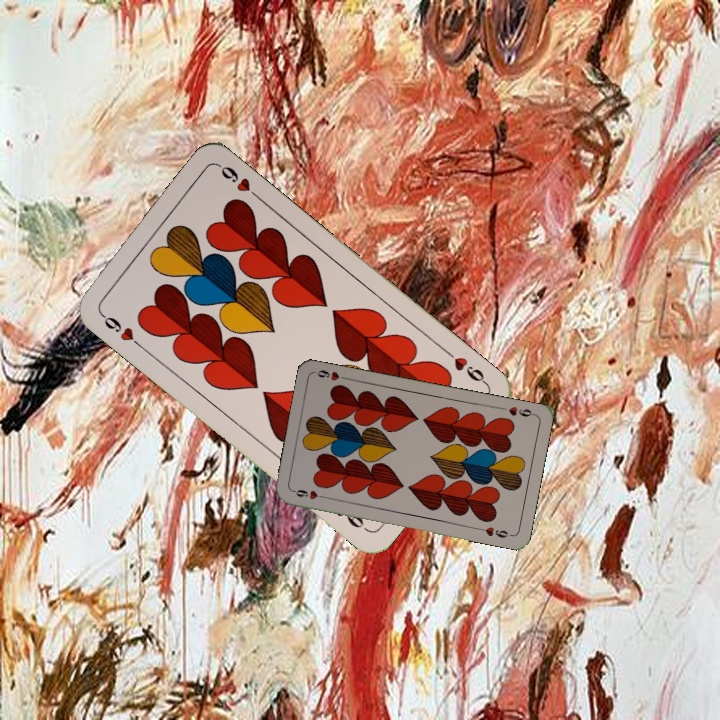H9: (95, 307, 145, 351), (440, 344, 489, 387), (497, 402, 537, 419), (289, 485, 329, 502)
